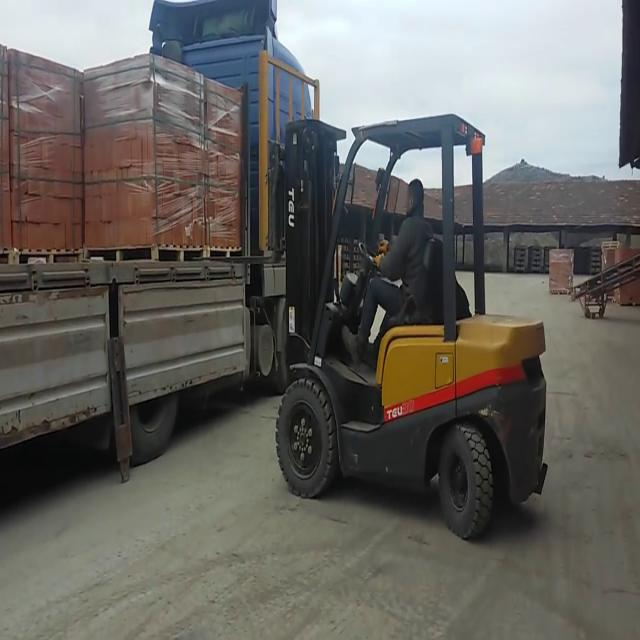Chariot elevateur: (273, 98, 567, 546)
